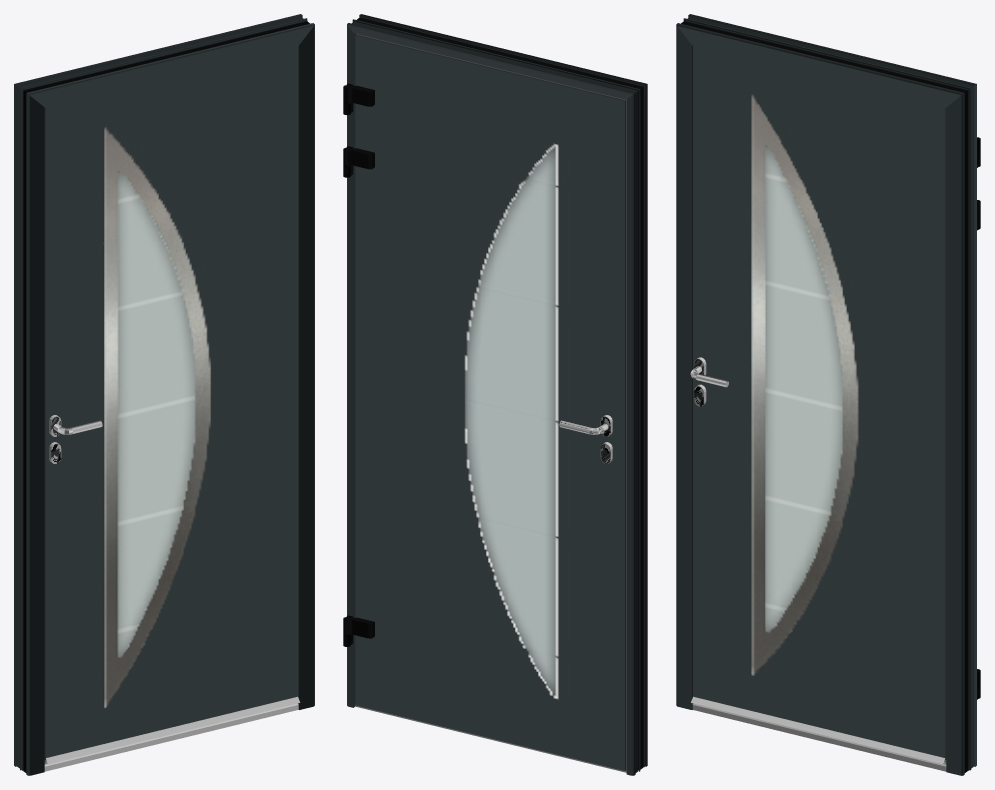
3 renders of one model, left to right at view 1: azimuth 30°, elevation 25°; view 2: azimuth 150°, elevation 25°; view 3: azimuth 330°, elevation 25°, orthographic.
Visible parts, largest first — view 1: ouvrant, 85; view 2: ouvrant, 85; view 3: ouvrant, 85.
Boxes of the visible parts, x1,y1,x2,y2 form: ouvrant: (44, 46, 300, 764); 85: (14, 14, 314, 775); ouvrant: (343, 34, 626, 770); 85: (343, 14, 647, 775); ouvrant: (691, 46, 980, 764); 85: (676, 14, 980, 775).
Bounding box in the file's own units: 96 × 218 × 22.64.
1 material, 1 textured.
